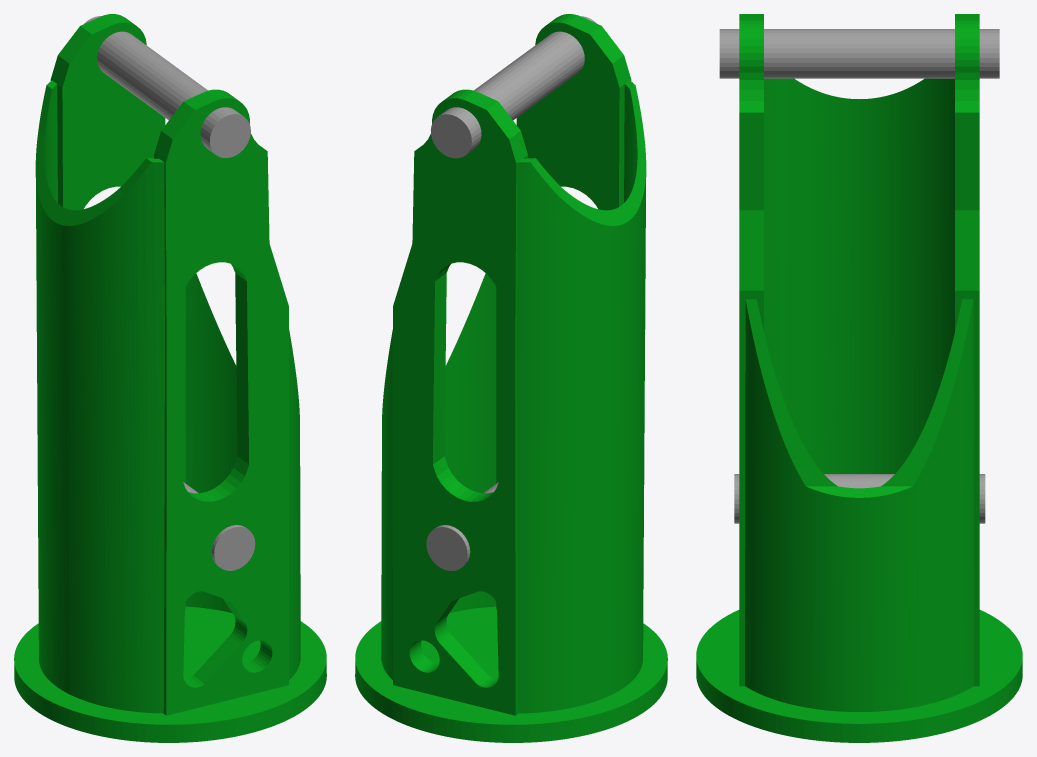
File: Forearm.dae
3 views of the same model, side by side, from view 1: azimuth 30°, elevation 25°; view 2: azimuth 150°, elevation 25°; view 3: azimuth 270°, elevation 25° (orthographic). The views are drawn at different scales.
Parts seen in each view (by area): view 1: Forearm_Skeleton, Forearm_Cover_Downside, Forearm_Ring_Flange, Forearm_Upper_Case, Forearm_Cylinder_Mouning_Bolt; view 2: Forearm_Skeleton, Forearm_Cover_Downside, Forearm_Ring_Flange, Forearm_Upper_Case, Forearm_Cylinder_Mouning_Bolt; view 3: Forearm_Cover_Downside, Forearm_Upper_Case, Forearm_Skeleton, Forearm_Ring_Flange, Forearm_Cylinder_Mouning_Bolt.
Part boxes in pixels (x1,y1,x2,y2): Forearm_Skeleton: (50, 14, 288, 715); Forearm_Cover_Downside: (35, 80, 164, 713); Forearm_Ring_Flange: (14, 606, 326, 742); Forearm_Upper_Case: (185, 273, 300, 679); Forearm_Cylinder_Mouning_Bolt: (183, 482, 255, 570); Forearm_Skeleton: (393, 14, 631, 715); Forearm_Cover_Downside: (517, 80, 646, 713); Forearm_Ring_Flange: (355, 606, 667, 742); Forearm_Upper_Case: (381, 273, 496, 679); Forearm_Cylinder_Mouning_Bolt: (426, 482, 498, 570); Forearm_Cover_Downside: (764, 78, 954, 473); Forearm_Upper_Case: (745, 299, 973, 711); Forearm_Skeleton: (719, 14, 999, 686); Forearm_Ring_Flange: (696, 610, 1022, 742); Forearm_Cylinder_Mouning_Bolt: (734, 474, 985, 523).
Size of the model in its own units: 0.1515 by 0.1515 by 0.3348.
